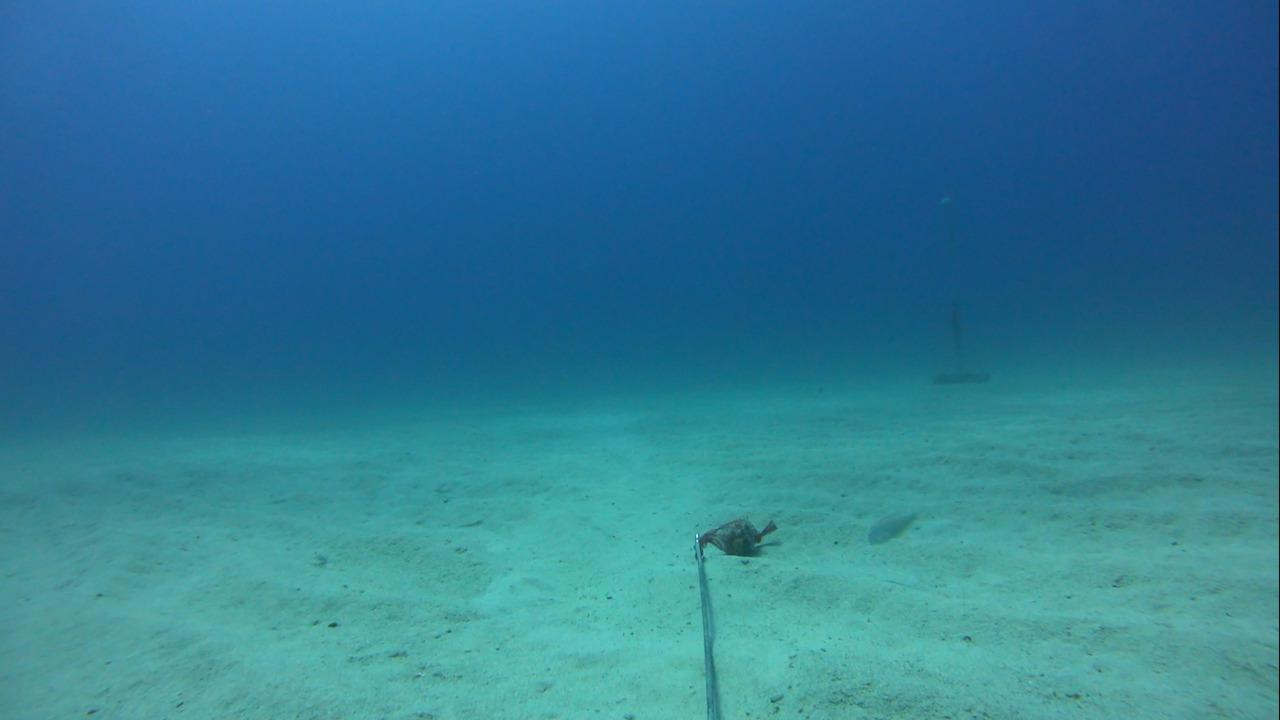raor: (850, 505, 925, 551)
